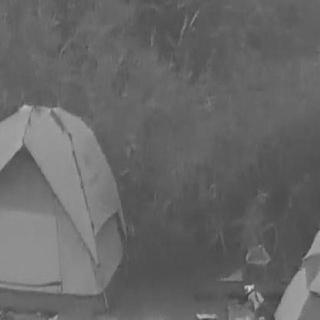other: (1, 104, 134, 304), (276, 211, 318, 315)
